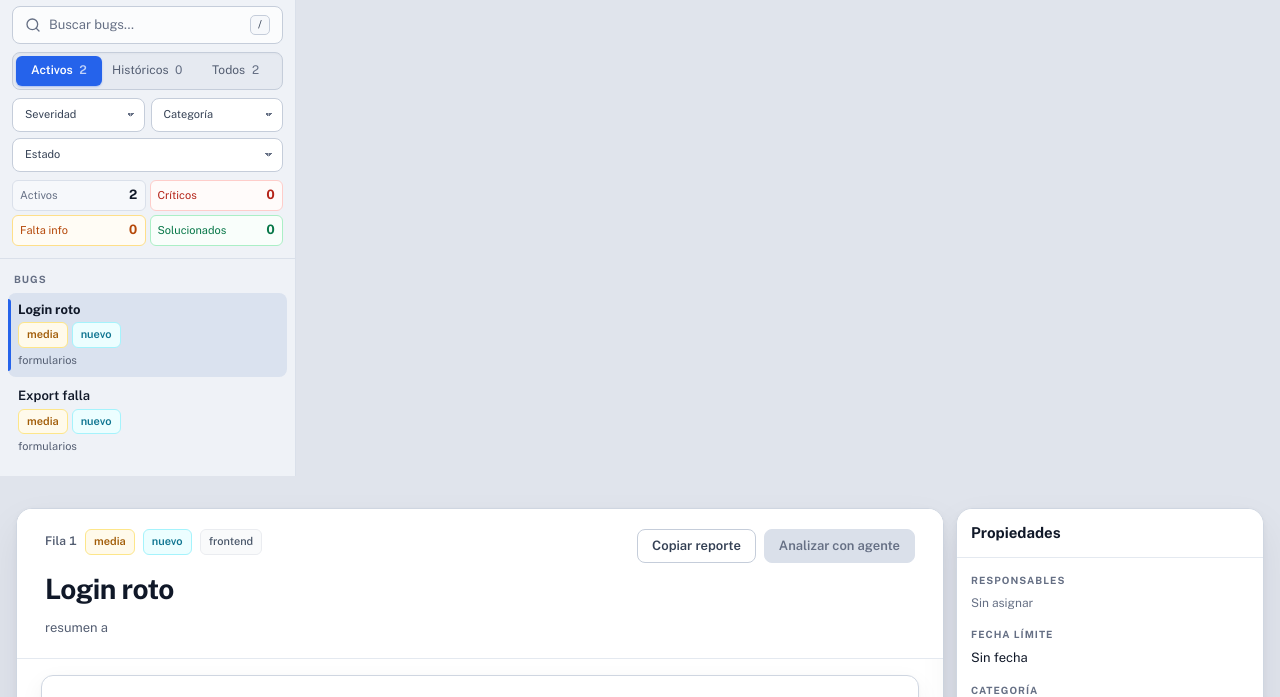
Test case: BugsScreen — estados › buscar filtra por texto y se puede limpiar
Type "login" into the field labelled "Buscar bugs" at (146, 25), box [49,15,242,35]
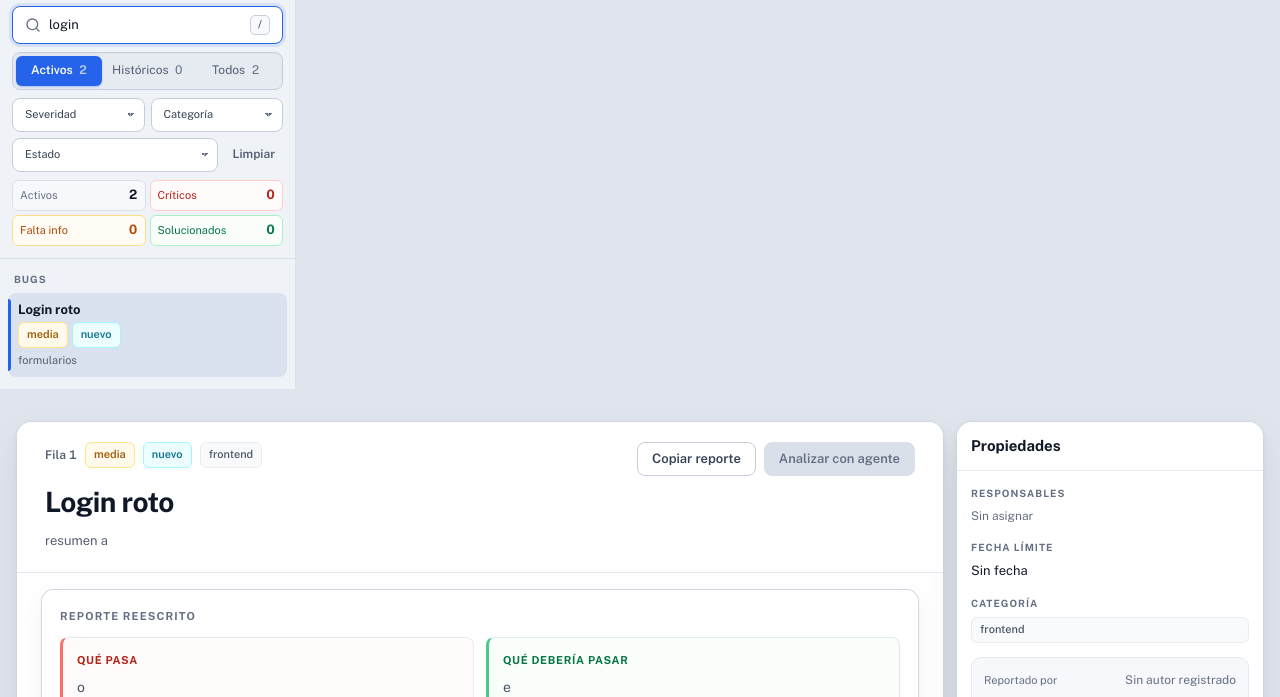
Expected: the text "Login roto" is shown, [18,302,80,317]
Expected: the button "Export falla" is gone
Click the button "Limpiar" at (254, 155), box [224,138,283,172]
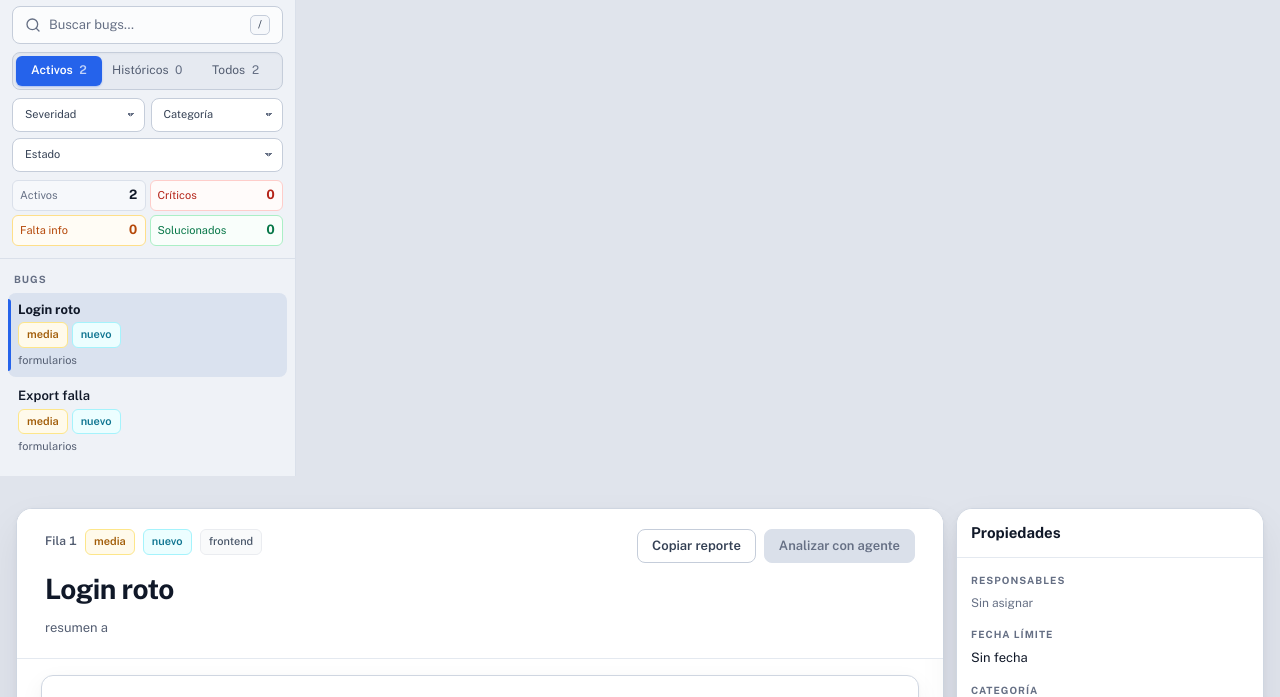
Expected: the text "Export falla" is shown, [18,388,90,403]
